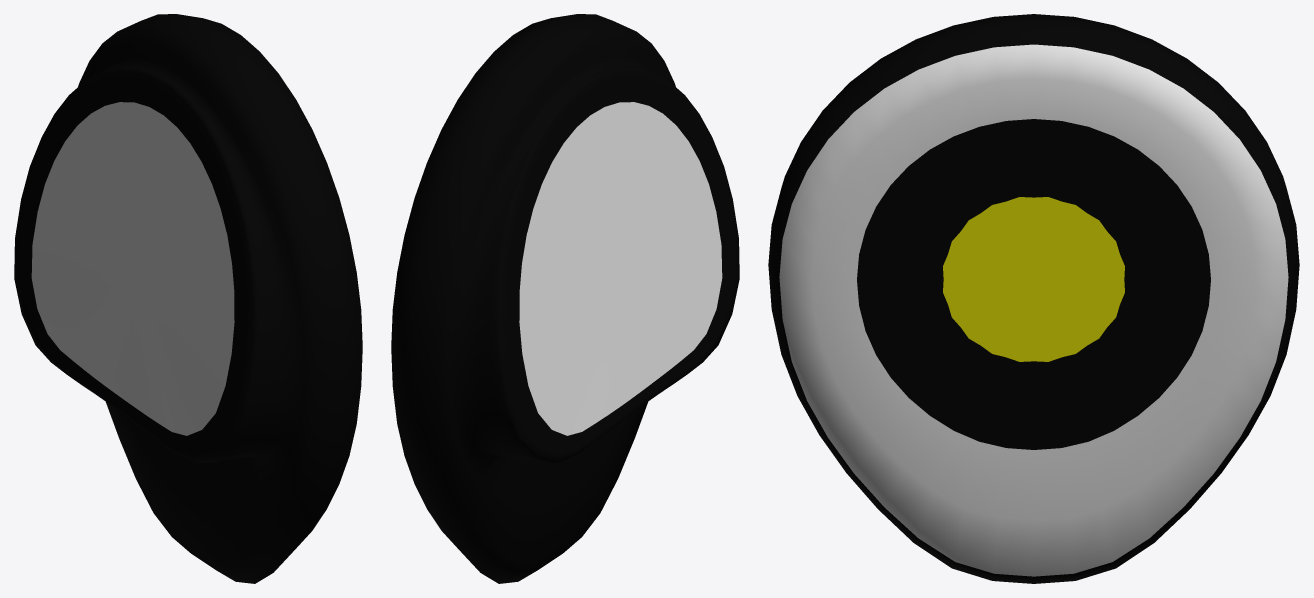
Rendered from Patte d'ours.fbx.
3 renders of one model, left to right at view 1: azimuth 30°, elevation 25°; view 2: azimuth 150°, elevation 25°; view 3: azimuth 270°, elevation 25°, orthographic. The views are drawn at different scales.
Visible parts, largest first — view 1: pCylinder1; view 2: pCylinder1; view 3: pCylinder1.
Boxes of the visible parts, bbox=[...] form: pCylinder1: bbox=[14, 14, 362, 583]; pCylinder1: bbox=[391, 14, 739, 583]; pCylinder1: bbox=[768, 14, 1299, 583].
Size of the model in its own units: 0.6081 by 2.31 by 1.98.
